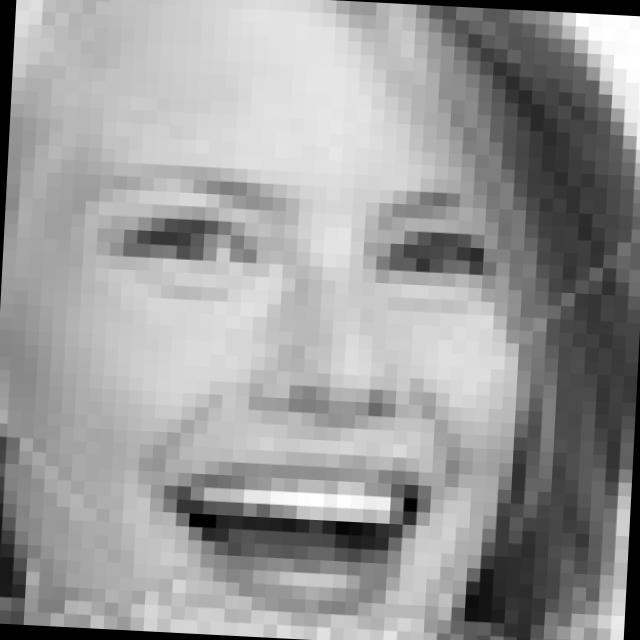happy: (41, 158, 504, 630)
